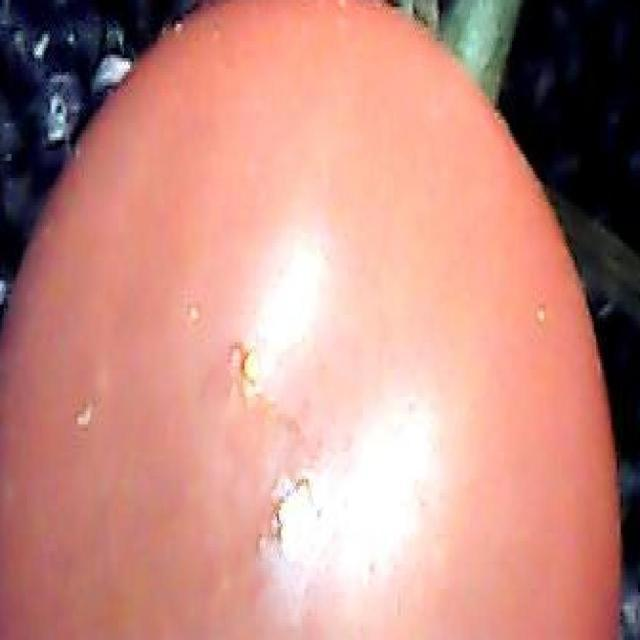Healthy Fruit: (11, 5, 424, 427)
